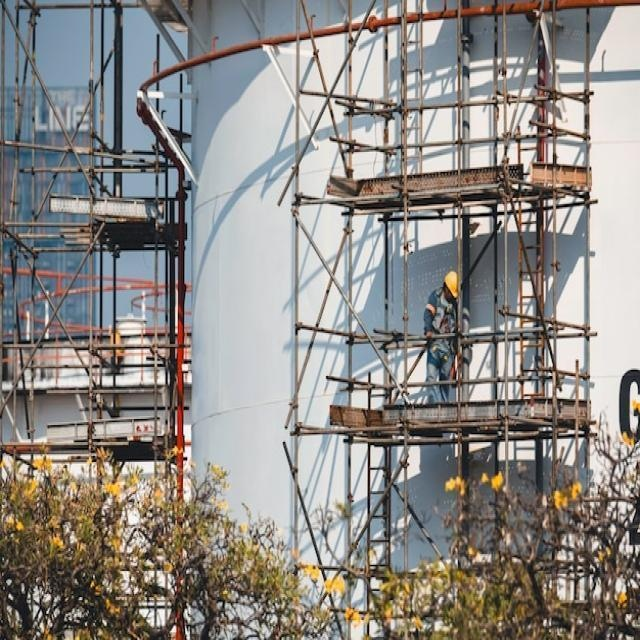Arnes_seguridad: (432, 288, 456, 365)
